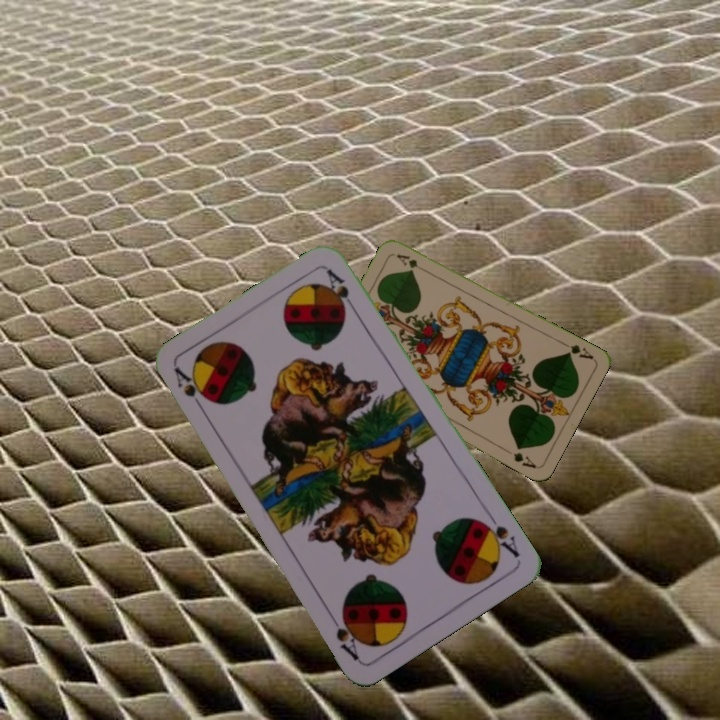GA: (558, 338, 596, 362)
SA: (475, 508, 523, 561), (170, 364, 209, 417)
